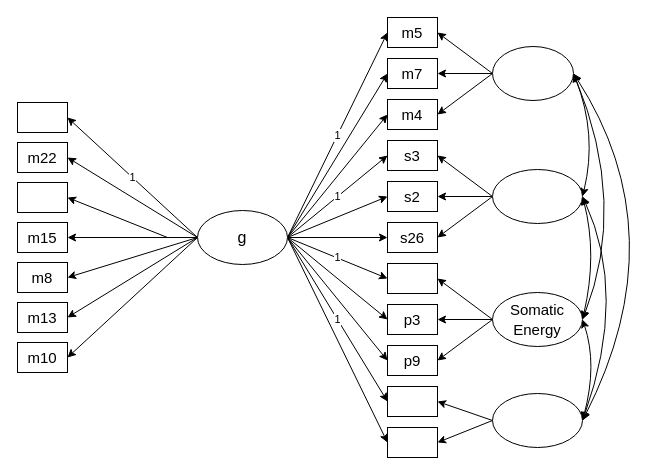
This 647x475 diagram has some shape labels left out. The box of each missing label's shape, as (x1, y1, x2, y2) in pixels:
Bliss: (492, 46, 574, 100)
Insight: (492, 168, 582, 224)
Luminosity: (492, 392, 582, 448)
m25: (16, 182, 68, 212)
m6: (16, 102, 68, 132)
p1: (386, 426, 438, 458)
p11: (386, 386, 438, 416)
p5: (386, 262, 438, 294)
